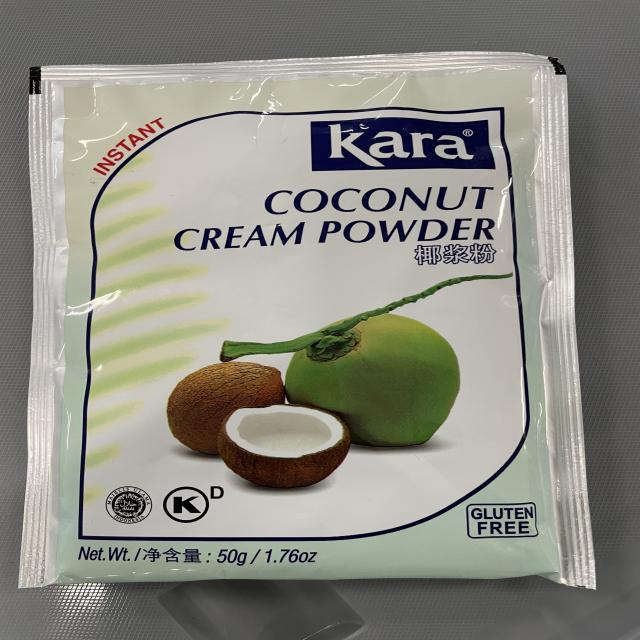object_name: (28, 75, 576, 573)
